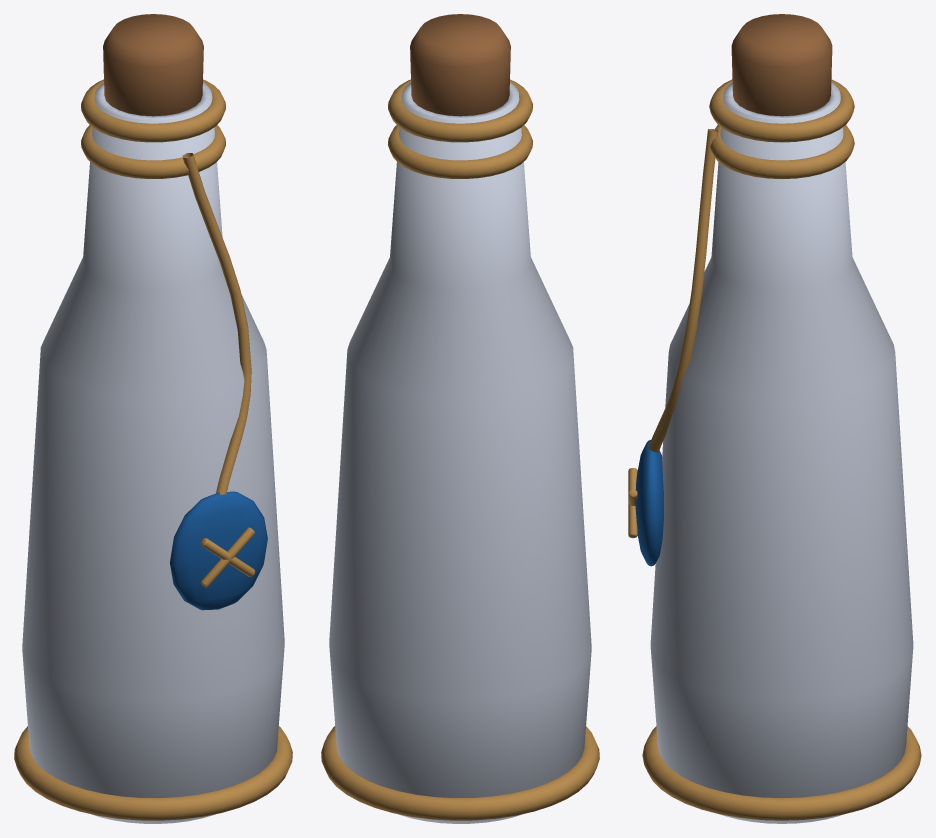
The model's file is Potion_Blue.glb.
3 renders of one model, left to right at view 1: azimuth 30°, elevation 25°; view 2: azimuth 150°, elevation 25°; view 3: azimuth 270°, elevation 25°, orthographic.
Parts seen in each view (by area): view 1: Thick_Walled_Blue_Bottle, Cork_Stopper, Wax_Seal, Base_Metal_Trim, Seal_Cord, Neck_Brass_Ring.001, Neck_Brass_Ring, Seal_Rune, Seal_Rune.001; view 2: Thick_Walled_Blue_Bottle, Cork_Stopper, Base_Metal_Trim, Neck_Brass_Ring.001, Neck_Brass_Ring; view 3: Thick_Walled_Blue_Bottle, Cork_Stopper, Base_Metal_Trim, Seal_Cord, Neck_Brass_Ring.001, Neck_Brass_Ring, Wax_Seal.
Part boxes in pixels (<box>): Thick_Walled_Blue_Bottle: <box>22,82,284,823</box>; Cork_Stopper: <box>103,14,203,116</box>; Wax_Seal: <box>170,491,267,610</box>; Base_Metal_Trim: <box>14,726,292,820</box>; Seal_Cord: <box>182,153,251,494</box>; Neck_Brass_Ring.001: <box>81,79,225,142</box>; Neck_Brass_Ring: <box>81,125,225,178</box>; Seal_Rune: <box>200,527,254,587</box>; Seal_Rune.001: <box>200,538,255,576</box>; Thick_Walled_Blue_Bottle: <box>329,82,591,823</box>; Cork_Stopper: <box>410,14,510,116</box>; Base_Metal_Trim: <box>321,726,599,820</box>; Neck_Brass_Ring.001: <box>388,79,532,142</box>; Neck_Brass_Ring: <box>388,125,532,178</box>; Thick_Walled_Blue_Bottle: <box>650,82,913,823</box>; Cork_Stopper: <box>731,14,832,116</box>; Base_Metal_Trim: <box>642,726,921,820</box>; Seal_Cord: <box>648,129,718,452</box>; Neck_Brass_Ring.001: <box>709,79,854,142</box>; Neck_Brass_Ring: <box>710,125,854,178</box>; Wax_Seal: <box>635,440,663,566</box>.
Bounding box in the file's own units: 0.138 × 0.41 × 0.1449.
